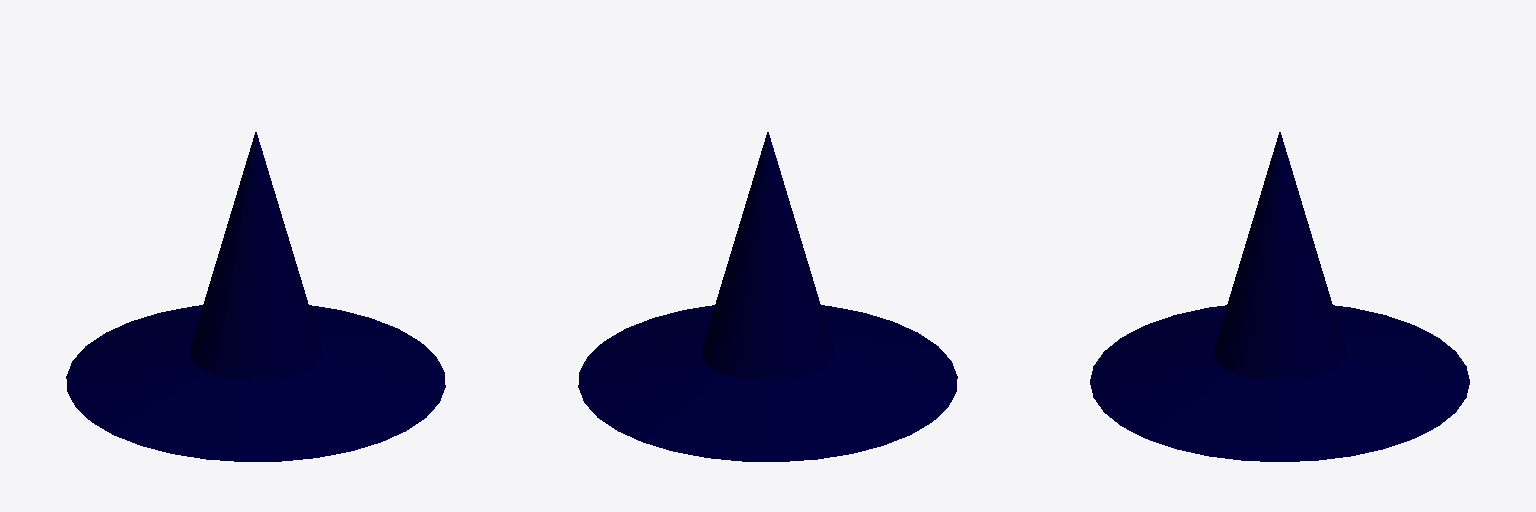
Rendered from BlueHat.obj.
3 renders of one model, left to right at view 1: azimuth 30°, elevation 25°; view 2: azimuth 150°, elevation 25°; view 3: azimuth 270°, elevation 25°, orthographic.
Visible parts, largest first — view 1: Cylinder; view 2: Cylinder; view 3: Cylinder.
Boxes of the visible parts, x1,y1,x2,y2 form: Cylinder: [66, 132, 445, 461]; Cylinder: [578, 132, 957, 461]; Cylinder: [1090, 132, 1469, 461].
Size of the model in its own units: 2.85 by 2.08 by 2.85.